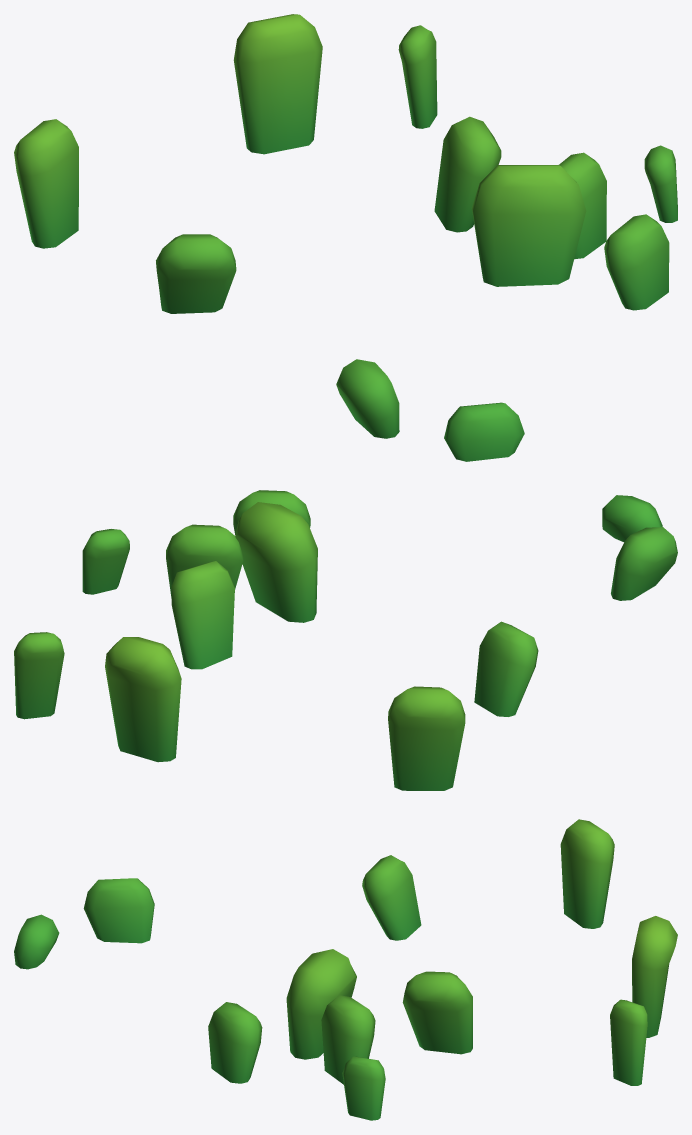
File: GrassBush_Big.FBX
3 renders of one model, top to bottom at view 1: azimuth 30°, elevation 25°; view 2: azimuth 150°, elevation 25°; view 3: azimuth 270°, elevation 25°, orthographic. The views are drawn at different scales.
Visible parts, largest first — view 1: GrassBush_Big; view 2: GrassBush_Big; view 3: GrassBush_Big.
Part boxes in pixels (bbox=[...]): GrassBush_Big: bbox=[14, 14, 677, 461]; GrassBush_Big: bbox=[14, 490, 677, 790]; GrassBush_Big: bbox=[14, 819, 677, 1120].
Size of the model in its own units: 170 by 36.97 by 218.
1 material, 1 textured.
